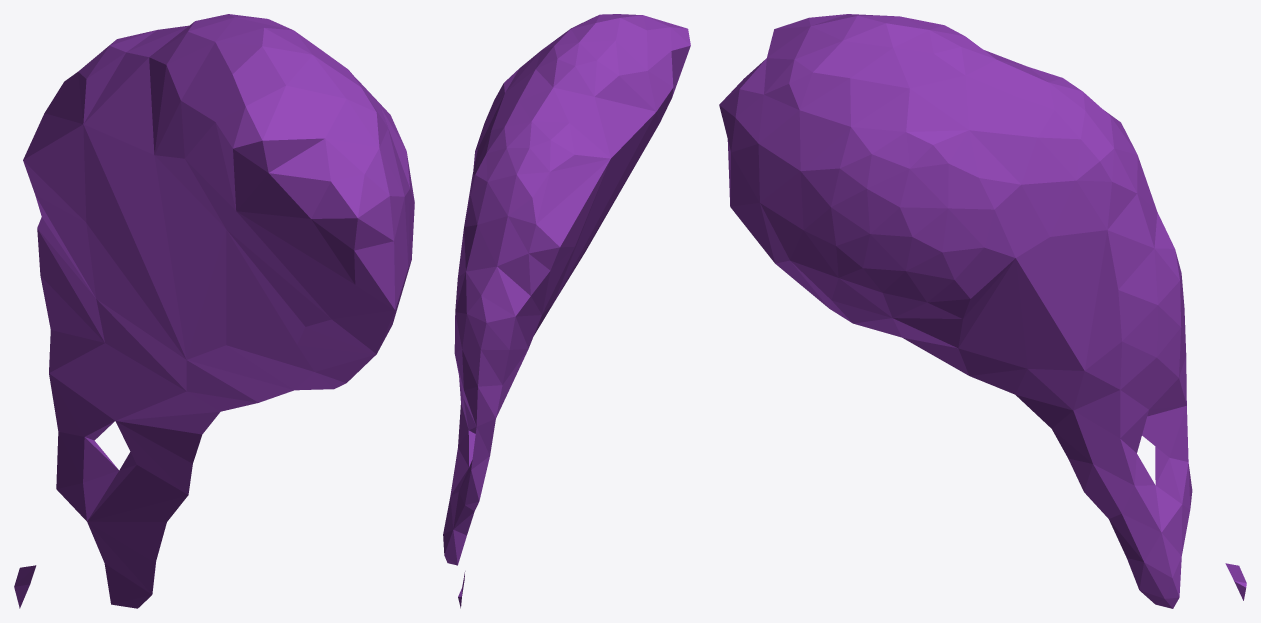
File: Model_10352_LH__Arcuate_hypothalamic_nucleus_(Arc).obj
The picture shows the model from 3 angles, left to right: view 1: azimuth 30°, elevation 25°; view 2: azimuth 150°, elevation 25°; view 3: azimuth 270°, elevation 25°; orthographic projection. The views are drawn at different scales.
Size of the model in its own units: 0.3822 by 1.13 by 0.9253.
